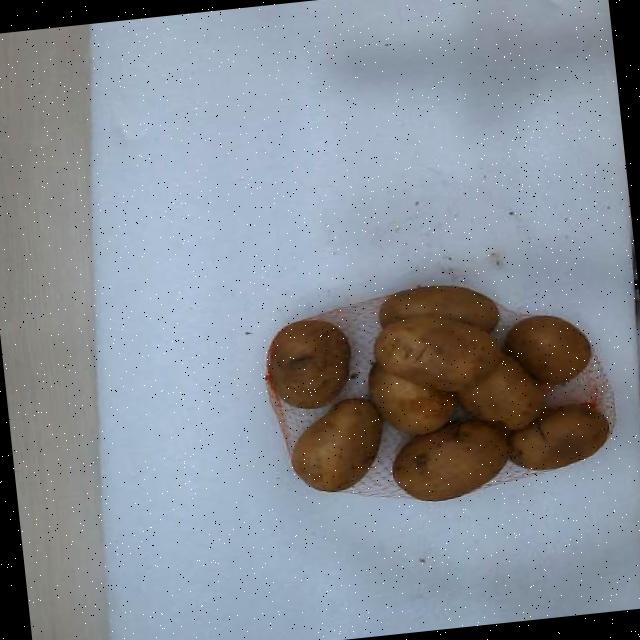potato: (373, 315, 500, 391), (392, 418, 508, 499), (292, 398, 381, 490), (267, 318, 348, 407), (458, 353, 545, 428), (509, 403, 606, 469), (368, 363, 453, 433), (505, 314, 590, 384), (378, 284, 497, 331)
